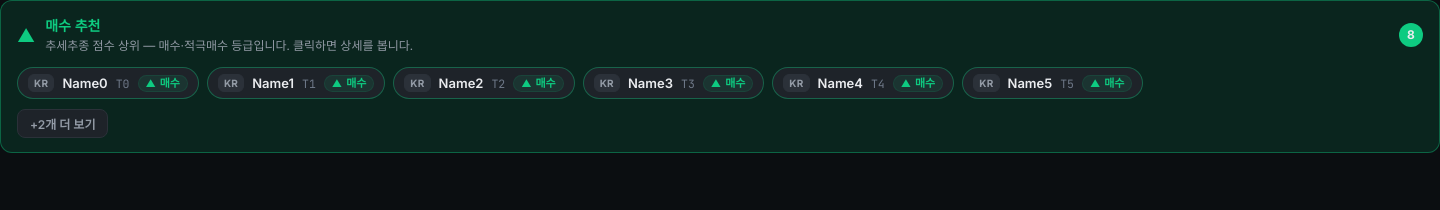
EntryLane › previews 6 entries and toggles the rest while keeping the total count
Expected: the text "8" is shown, x1=1399 y1=23 x2=1423 y2=47
Expected: the text "Name5" is shown, x1=1008 y1=75 x2=1052 y2=91
Note: Expand reveals the remaining 2.
Click the button "+2개 더 보기". click: click(63, 124)
box: x1=17 y1=109 x2=108 y2=138
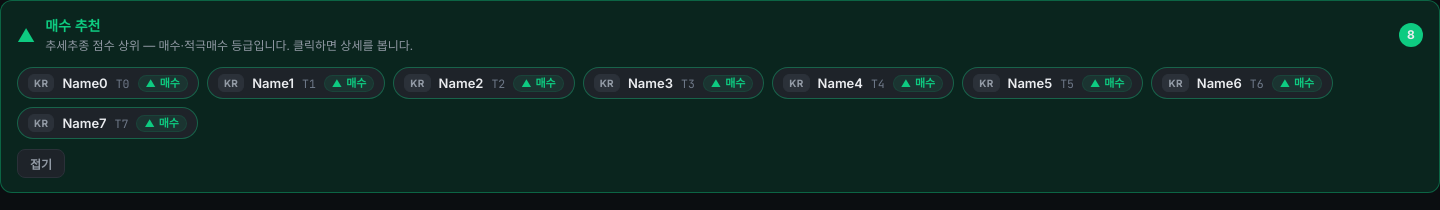
Result: the text "Name6" is shown at x1=1197 y1=75 x2=1242 y2=91
Result: the text "Name7" is shown at x1=62 y1=115 x2=107 y2=131
Note: Collapse hides them again.
Click the button "접기". click: click(41, 164)
box: x1=17 y1=149 x2=65 y2=178
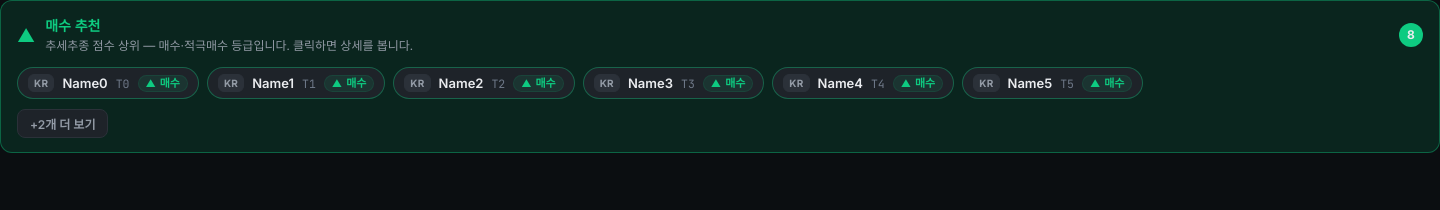
Result: the button "Name7" is gone
